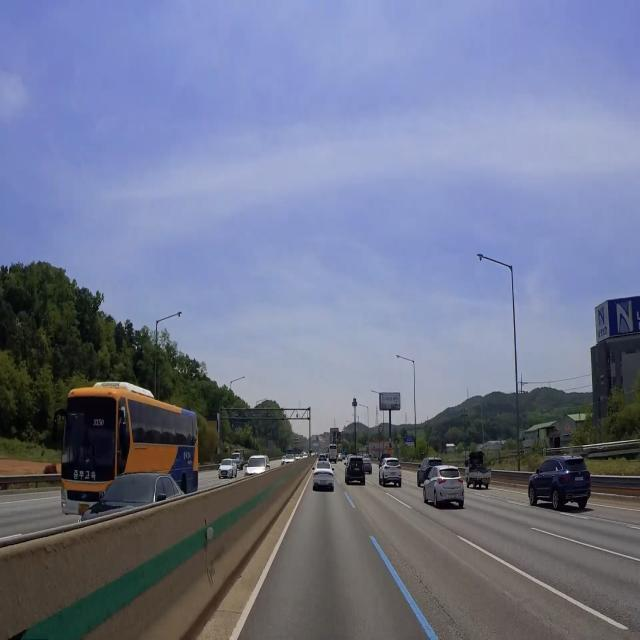car: (74, 503, 95, 516), (573, 472, 587, 486), (318, 477, 330, 491), (385, 469, 400, 480), (446, 494, 460, 505), (353, 465, 363, 479)
